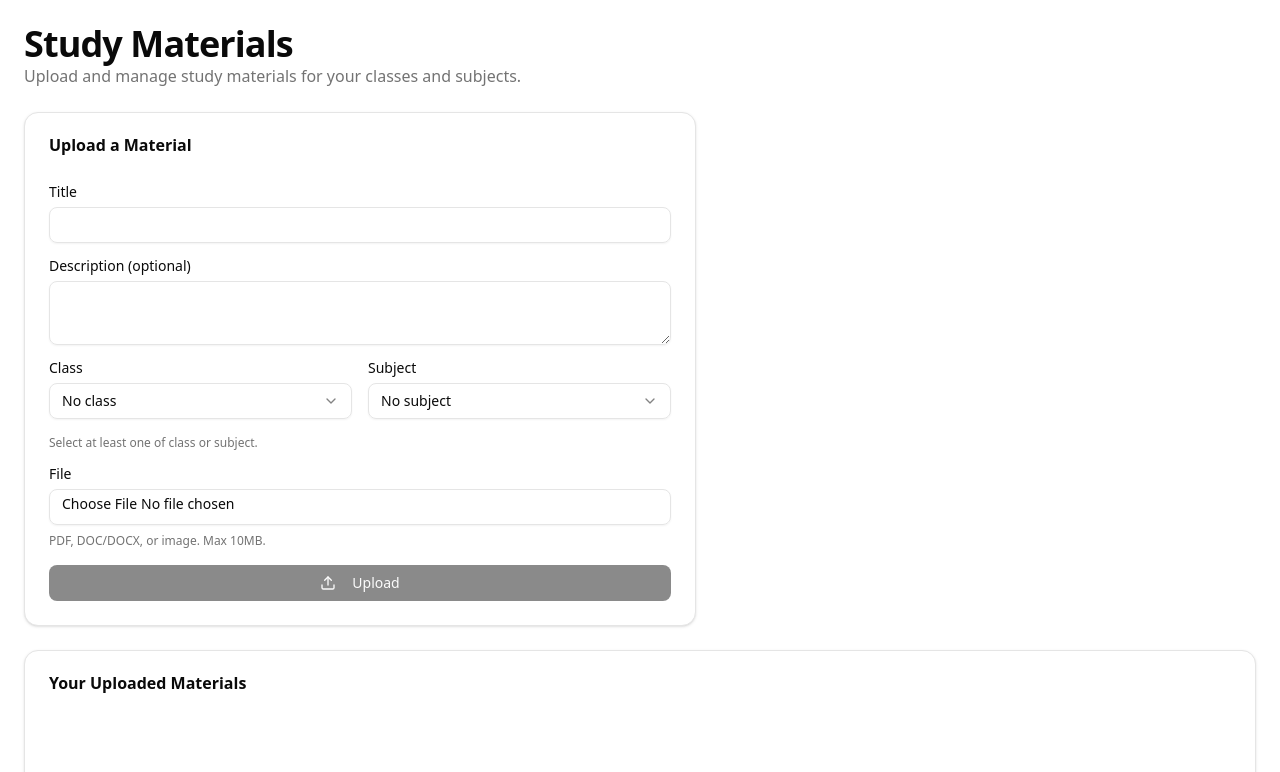
Test: TeacherMaterialsPage — subject-assigned only › shows the subject-assigned class when the teacher owns no class
The width and height of the screenshot is (1280, 772).
Click the dropdown labelled "class" at (89, 400), box [49,383,352,419]
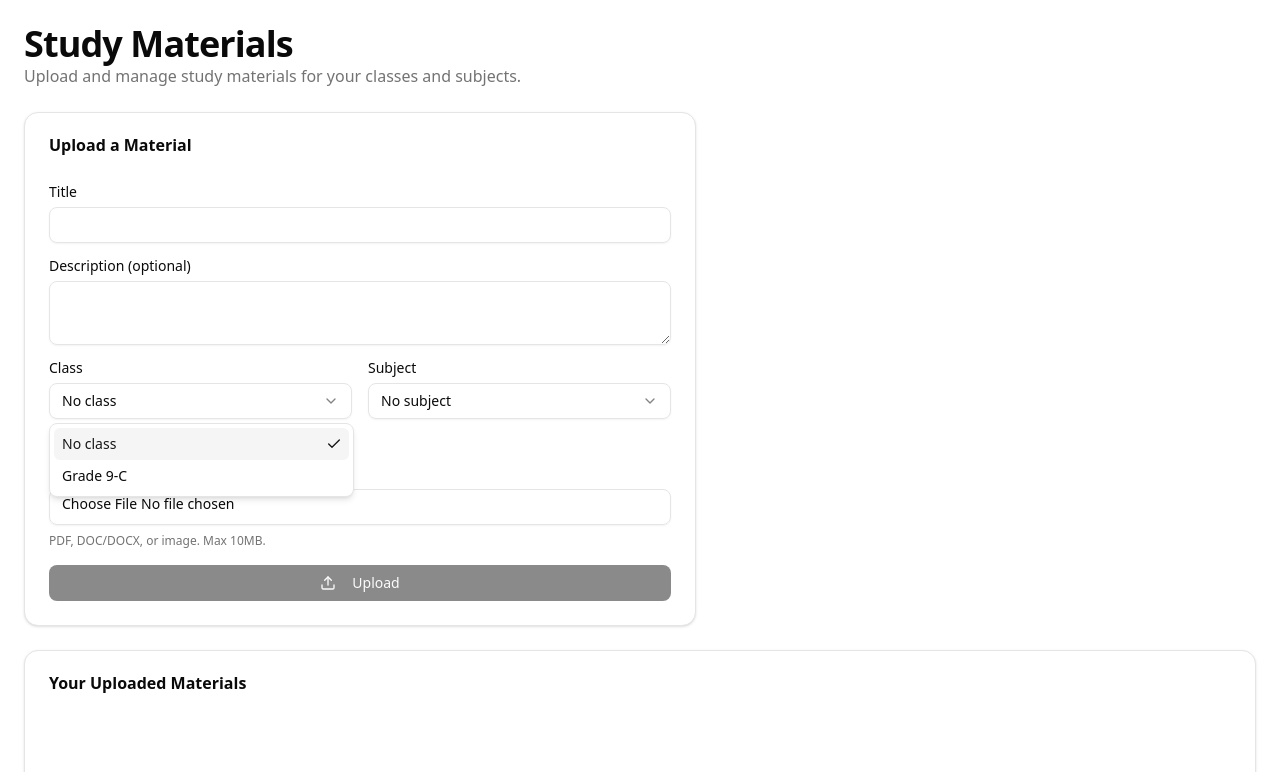
expect the option "Grade 9-C" is shown: met, box [62,466,127,485]
